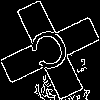C: (25, 25, 78, 83)
